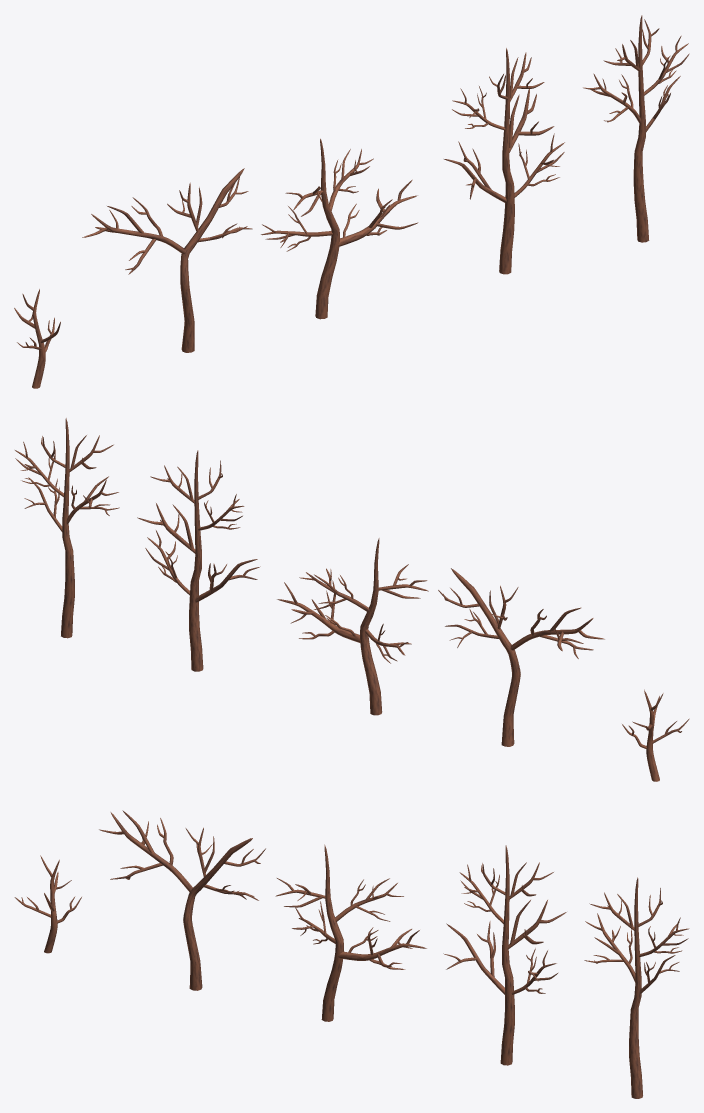
Rendered from dead_trees_free_model_b.glb.
3 renders of one model, top to bottom at view 1: azimuth 30°, elevation 25°; view 2: azimuth 150°, elevation 25°; view 3: azimuth 330°, elevation 25°, orthographic. The views are drawn at different scales.
Visible parts, largest first — view 1: DeadTree_2, DeadTree_3, DeadTree_4, DeadTree_1, DeadTree_5; view 2: DeadTree_2, DeadTree_3, DeadTree_1, DeadTree_4, DeadTree_5; view 3: DeadTree_2, DeadTree_3, DeadTree_1, DeadTree_4, DeadTree_5.
Boxes of the visible parts, x1,y1,x2,y2 form: DeadTree_2: (444,48,564,274); DeadTree_3: (261,138,418,319); DeadTree_4: (82,168,252,352); DeadTree_1: (583,15,689,242); DeadTree_5: (14,289,60,388); DeadTree_2: (137,450,260,671); DeadTree_3: (277,538,428,715); DeadTree_1: (15,418,119,638); DeadTree_4: (438,568,604,746); DeadTree_5: (622,689,689,781); DeadTree_2: (443,845,566,1065); DeadTree_3: (275,844,426,1021); DeadTree_1: (584,877,689,1098); DeadTree_4: (99,810,265,990); DeadTree_5: (14,855,81,953).
Bounding box in the file's own units: 19.55 × 6.2 × 1.72.
Materials: 1 (1 with a texture image).
